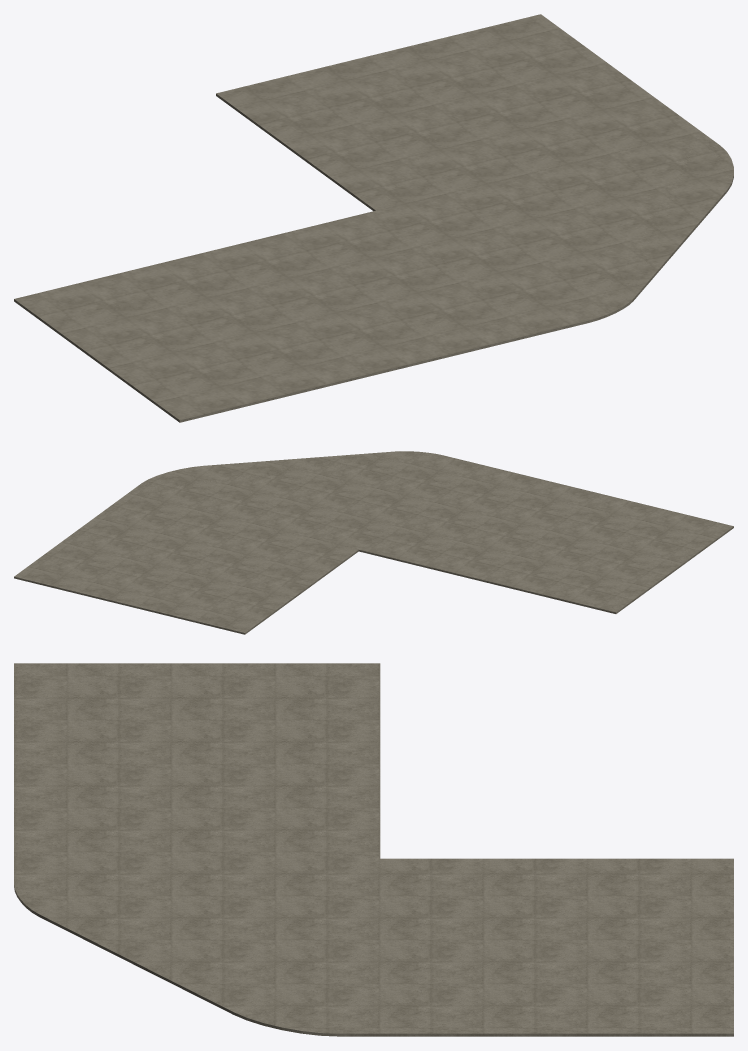
Rendered from Sidewalk.fbx.
3 renders of one model, top to bottom at view 1: azimuth 30°, elevation 25°; view 2: azimuth 150°, elevation 25°; view 3: azimuth 270°, elevation 25°, orthographic. The views are drawn at different scales.
Visible parts, largest first — view 1: Sidewalk; view 2: Sidewalk; view 3: Sidewalk.
Part boxes in pixels (x1=…): Sidewalk: x1=14, y1=14, x2=733, y2=422; Sidewalk: x1=14, y1=451, x2=733, y2=634; Sidewalk: x1=14, y1=663, x2=733, y2=1036.
Bounding box in the file's own units: 15479 × 53.01 × 12719.
Materials: 1 (1 with a texture image).
